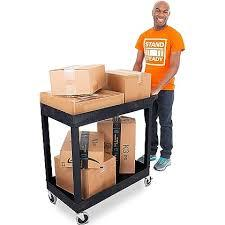Boxes: (54, 158, 118, 201), (97, 120, 136, 175), (59, 130, 105, 170), (51, 65, 107, 95), (41, 92, 126, 111), (107, 70, 152, 103)
